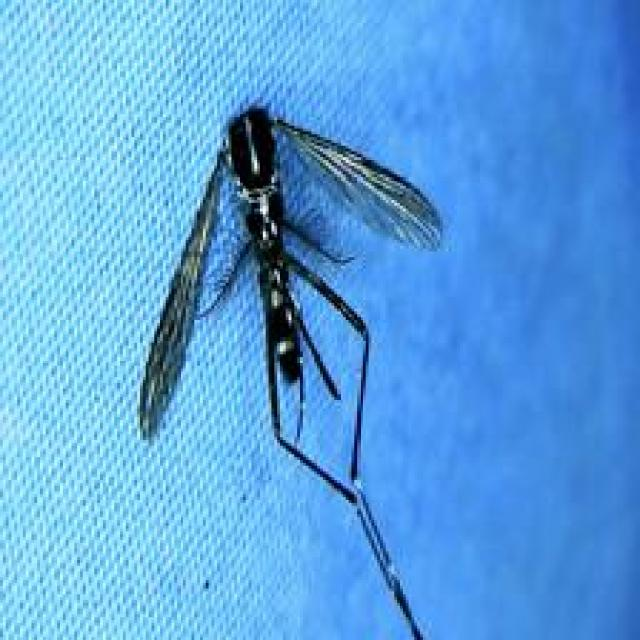Aedes albopictus: (134, 103, 452, 640)
